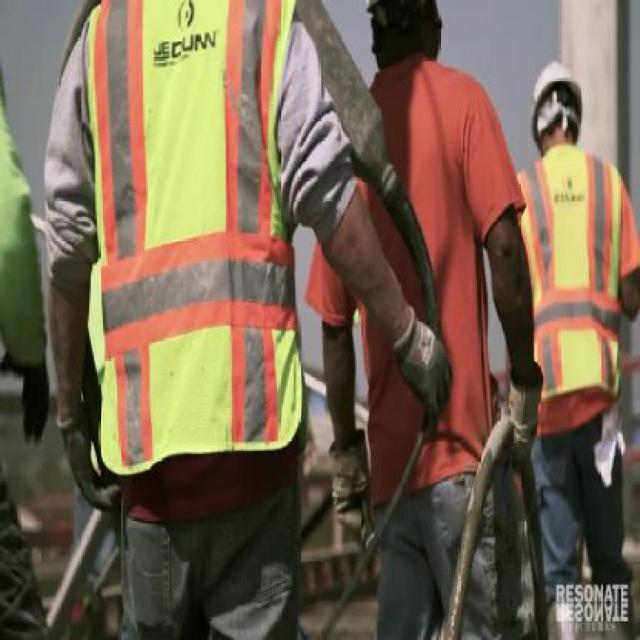Gloves: (390, 303, 450, 441), (55, 408, 125, 514), (326, 428, 372, 536), (502, 362, 542, 474), (18, 361, 52, 442)
Vest: (80, 0, 308, 474), (515, 145, 622, 398)
helmet: (529, 58, 583, 119)
person: (27, 0, 326, 640), (328, 2, 538, 637), (507, 49, 640, 639)
